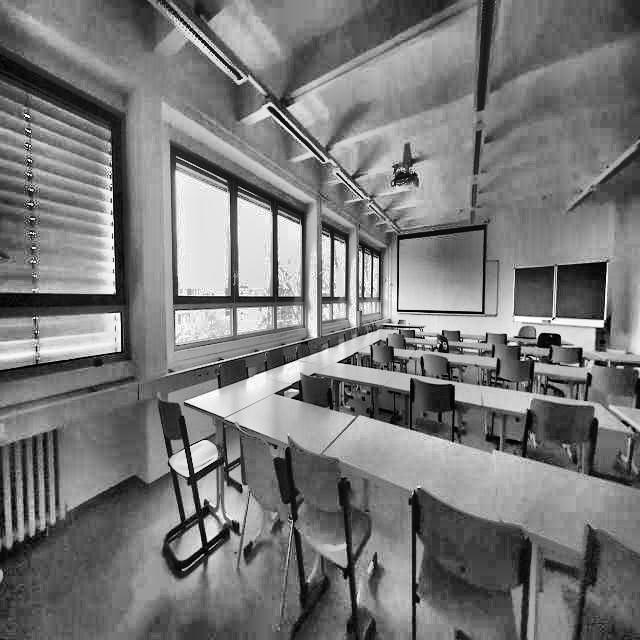ff: (107, 36, 394, 264)
